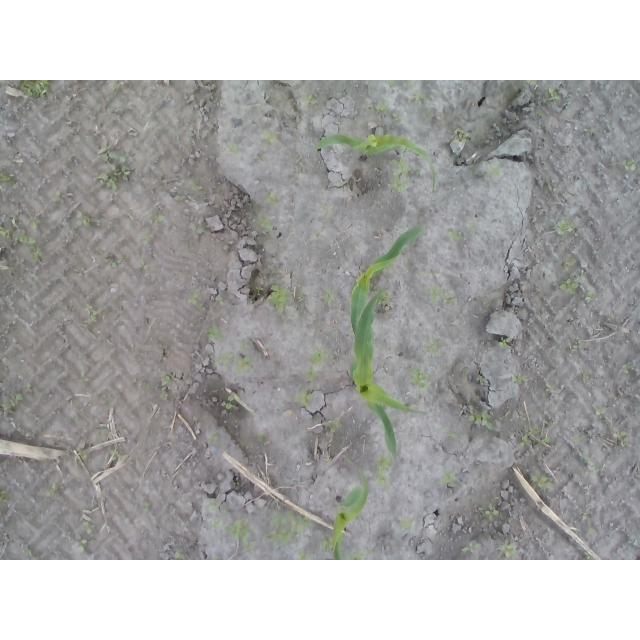Maize: (347, 292, 429, 455), (349, 227, 427, 339), (314, 128, 438, 188), (332, 474, 371, 560)
Weeds: (296, 350, 328, 406), (95, 144, 130, 192), (269, 509, 312, 545), (388, 155, 421, 193), (224, 518, 257, 552), (520, 417, 557, 447), (217, 350, 256, 377), (462, 408, 496, 433), (16, 234, 45, 262), (257, 129, 283, 160), (555, 270, 586, 295), (376, 451, 393, 485), (268, 284, 288, 312), (254, 204, 273, 232), (16, 80, 49, 96), (78, 521, 94, 554), (0, 391, 22, 414), (408, 366, 433, 386), (474, 503, 499, 522), (207, 497, 222, 527), (160, 370, 174, 402), (431, 288, 457, 305), (407, 88, 432, 105), (423, 335, 441, 358), (531, 473, 553, 491), (206, 321, 225, 340), (0, 169, 16, 191), (453, 127, 472, 145), (496, 542, 516, 559), (349, 548, 375, 561), (319, 287, 337, 305), (438, 471, 459, 486), (399, 518, 417, 535), (183, 288, 201, 305), (611, 428, 625, 449), (545, 87, 560, 106), (319, 537, 337, 552), (150, 211, 169, 225), (83, 303, 97, 321), (385, 80, 415, 88), (224, 144, 240, 159), (266, 191, 282, 206), (45, 481, 60, 497), (135, 256, 150, 272), (557, 224, 575, 237), (190, 224, 208, 237), (256, 431, 271, 446), (496, 336, 513, 349), (190, 176, 203, 193), (224, 394, 237, 411), (112, 82, 129, 95), (461, 544, 481, 555), (622, 158, 640, 170), (374, 99, 388, 114), (486, 166, 502, 179), (592, 404, 609, 416), (583, 290, 600, 302), (80, 215, 97, 227), (448, 229, 465, 241), (207, 434, 222, 447), (579, 448, 590, 465), (511, 372, 526, 384), (175, 195, 191, 206), (296, 550, 313, 560), (622, 360, 635, 373), (30, 217, 43, 230), (0, 225, 12, 239), (1, 491, 12, 506), (567, 435, 582, 445), (110, 256, 119, 272), (20, 546, 33, 557), (52, 190, 63, 203), (303, 95, 317, 105), (111, 448, 121, 462), (327, 420, 337, 433), (80, 371, 89, 385), (583, 552, 597, 561), (581, 370, 590, 383), (296, 291, 305, 304), (143, 502, 153, 513), (380, 292, 389, 304), (544, 184, 556, 193), (176, 548, 185, 560), (214, 295, 224, 305), (573, 340, 584, 349), (467, 223, 476, 233), (424, 111, 433, 121), (583, 126, 592, 136), (253, 286, 263, 294), (447, 431, 456, 439), (512, 89, 521, 97), (479, 379, 489, 386), (239, 339, 245, 350), (105, 399, 113, 407), (344, 456, 352, 464), (526, 80, 536, 86), (535, 111, 545, 117), (336, 181, 341, 191), (81, 453, 88, 460), (232, 482, 240, 486)
